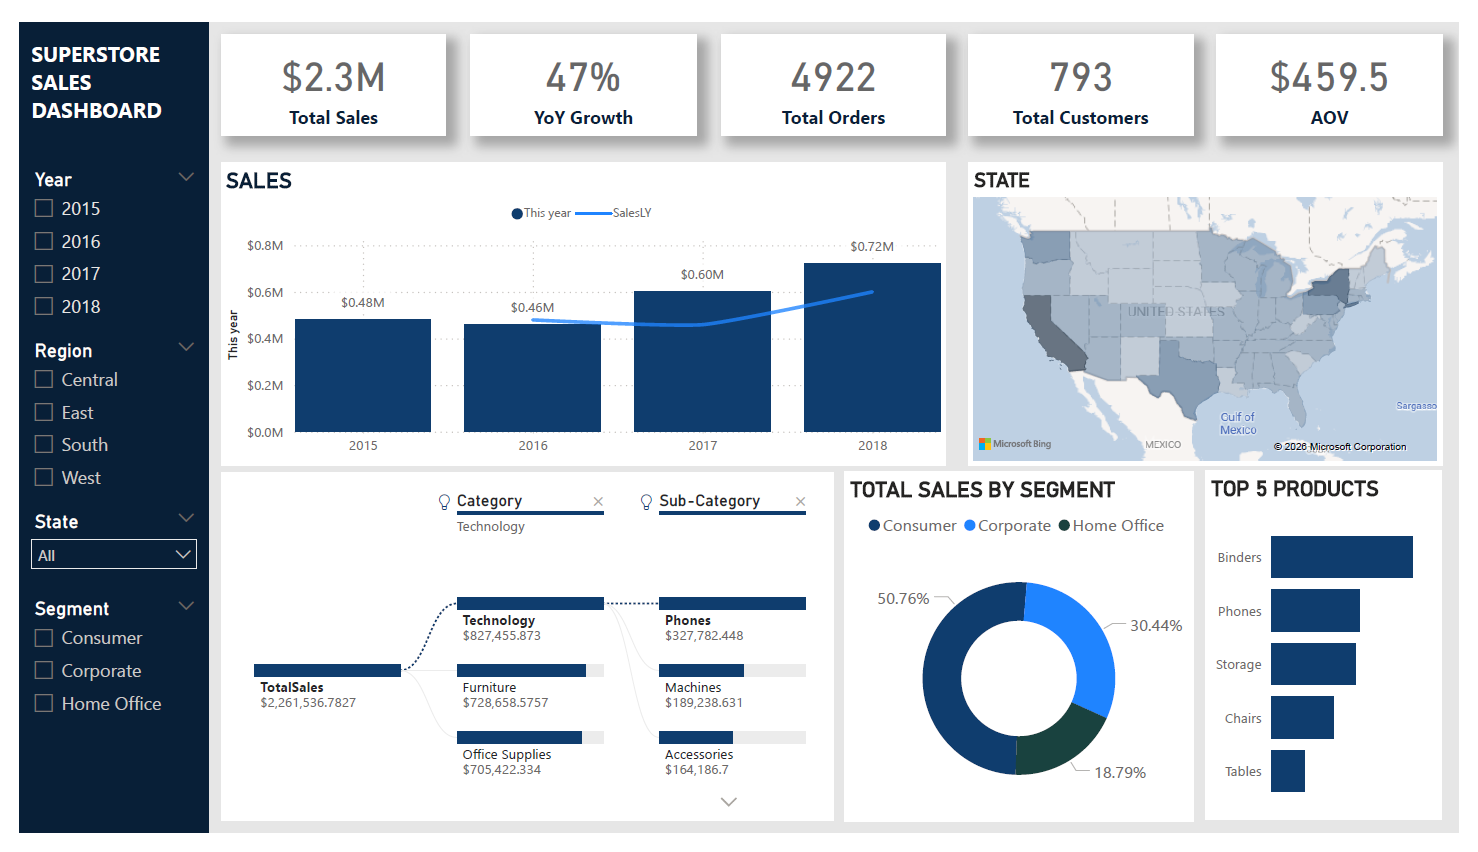

Layout of this report page (visuals, bound fields, positions):
{"tool":"powerbi","page":{"name":"Page 1","canvas":[1280,720],"ordinal":0},"visuals":[{"type":"lineClusteredColumnComboChart","title":"SALES","fields":{"Y":["_calc.TotalSales"],"Y2":["_calc.SalesLY"],"Category":["Calendar.Date.Variation.Date Hierarchy.Year"]},"box":[178.5,123.5,645.7,270.2],"z":0},{"type":"donutChart","title":"TOTAL SALES BY SEGMENT","fields":{"Category":["orders.Segment"],"Y":["_calc.TotalSales"]},"box":[734.1,399.3,310.1,311.5],"z":1000},{"type":"actionButton","box":[0,0,100,40],"z":2000},{"type":"decompositionTreeVisual","fields":{"Analyze":["_calc.TotalSales"],"ExplainBy":["orders.Category","orders.Sub-Category"]},"box":[178.5,399.9,545.4,310.6],"z":3000},{"type":"shape","box":[0,0,167.5,720.2],"z":4000},{"type":"slicer","fields":{"Values":["Calendar.Date.Variation.Date Hierarchy.Year"]},"box":[0,123.5,167.5,152.9],"z":5000},{"type":"card","fields":{"Values":["_calc.TotalSales"]},"box":[178.5,9.8,200.5,90.5],"z":6000},{"type":"slicer","fields":{"Values":["orders.Region"]},"box":[0,276.4,167.5,151.6],"z":7000},{"type":"slicer","fields":{"Values":["orders.State"]},"box":[0,428,167.5,69.7],"z":8000},{"type":"slicer","fields":{"Values":["orders.Segment"]},"box":[0,506.3,167.5,118.6],"z":9000},{"type":"card","fields":{"Values":["_calc.YoYGrowth"]},"box":[401.1,9.8,200.5,90.5],"z":10000},{"type":"card","fields":{"Values":["_calc.TotalOrders"]},"box":[623.6,9.8,200.5,90.5],"z":11000},{"type":"card","fields":{"Values":["_calc.TotalCustomers"]},"box":[843.8,9.8,200.5,90.5],"z":12000},{"type":"card","fields":{"Values":["_calc.AOV"]},"box":[1065.1,9.8,200.5,90.5],"z":13000},{"type":"filledMap","title":"STATE","fields":{"Category":["orders.State"]},"box":[843.8,123.5,421.9,270.2],"z":14000},{"type":"clusteredBarChart","title":"TOP 5 PRODUCTS","fields":{"Category":["orders.Sub-Category"],"Y":["_calc.TotalOrders"]},"box":[1055.2,397.9,209.9,311.5],"z":15000},{"type":"textbox","box":[0,9.8,167.5,113.7],"z":16000}]}

Visuals, with their boxes in screenshot pixels (x1, y1, x2, y2), scaled from the page's 1280x720 canvas onto the 1478x852 screenshot:
"SALES" lineClusteredColumnComboChart: select_region(206, 146, 952, 466)
"TOTAL SALES BY SEGMENT" donutChart: select_region(848, 473, 1206, 841)
actionButton: select_region(0, 0, 115, 47)
decompositionTreeVisual - _calc.TotalSales x orders.Category: select_region(206, 473, 836, 841)
shape: select_region(0, 0, 193, 851)
slicer - Calendar.Date.Variation.Date Hierarchy.Year: select_region(0, 146, 193, 327)
card - _calc.TotalSales: select_region(206, 12, 438, 119)
slicer - orders.Region: select_region(0, 327, 193, 506)
slicer - orders.State: select_region(0, 506, 193, 589)
slicer - orders.Segment: select_region(0, 599, 193, 739)
card - _calc.YoYGrowth: select_region(463, 12, 695, 119)
card - _calc.TotalOrders: select_region(720, 12, 952, 119)
card - _calc.TotalCustomers: select_region(974, 12, 1206, 119)
card - _calc.AOV: select_region(1230, 12, 1461, 119)
"STATE" filledMap: select_region(974, 146, 1461, 466)
"TOP 5 PRODUCTS" clusteredBarChart: select_region(1218, 471, 1461, 839)
textbox: select_region(0, 12, 193, 146)
